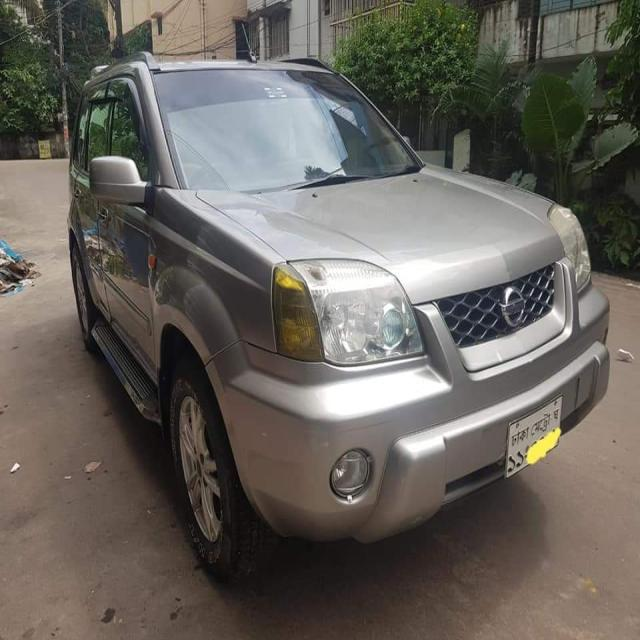silver: (56, 58, 613, 569)
